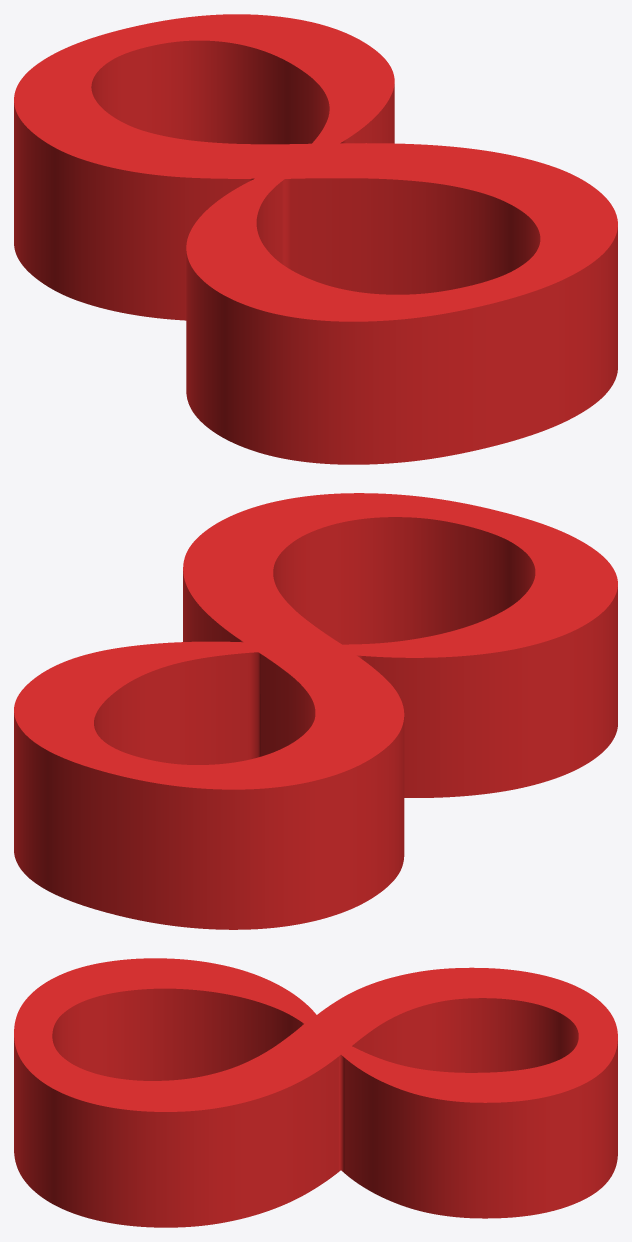
Rendered from eight.glb.
3 views of the same model, one above another, from view 1: azimuth 30°, elevation 25°; view 2: azimuth 150°, elevation 25°; view 3: azimuth 270°, elevation 25° (orthographic). The views are drawn at different scales.
Visible parts, largest first — view 1: Текст; view 2: Текст; view 3: Текст.
Boxes of the visible parts, x1=… form: Текст: x1=14, y1=14, x2=617, y2=464; Текст: x1=14, y1=493, x2=617, y2=929; Текст: x1=14, y1=958, x2=617, y2=1227.
Size of the model in its own units: 0.342 by 0.12 by 0.5678.
